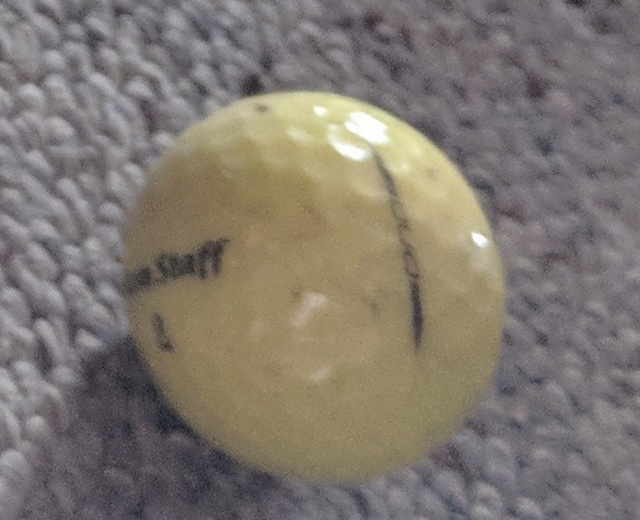ball: (120, 89, 515, 486)
